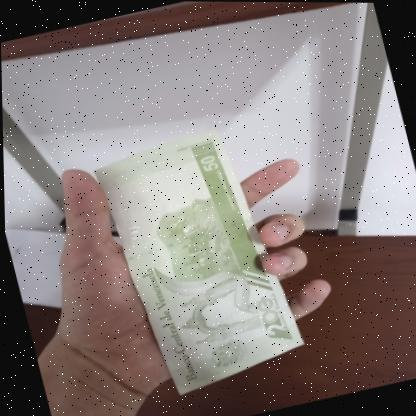fifty-back-vef: (88, 120, 310, 403)
